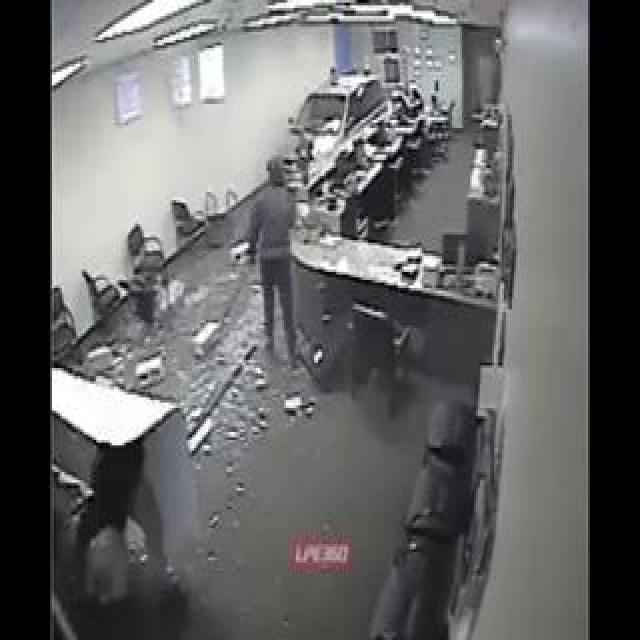thief: (56, 414, 167, 532), (234, 144, 322, 263)
